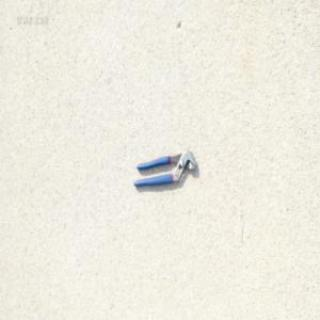Pliertrack_idkeyframe: (130, 145, 195, 186)
